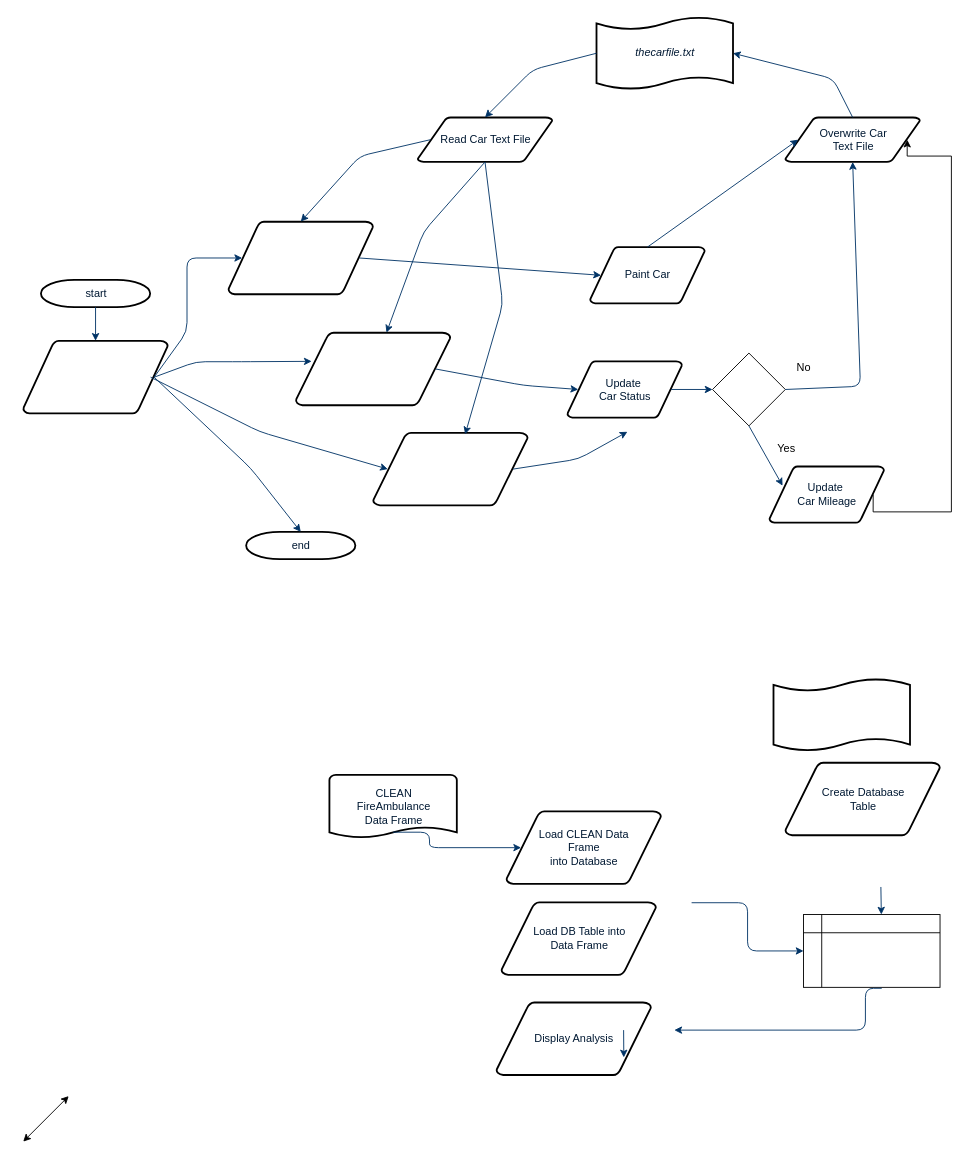
Some shapes in this 975 by 1166 pixel diagram are drawn without their labels. The centre of each missing label's shape, as x and y in pixels:
"Administer Car Pool" goes at point 300,257.
"CleanAmbulances.csv" goes at point 841,714.
"Present Menu" goes at point 95,376.
"Rent Car from Car Pool" goes at point 372,368.
"Return Car to Car Pool" goes at point 450,468.
"Returning Car?" goes at point 748,389.
"tblFireAmbulance" goes at point 871,950.
